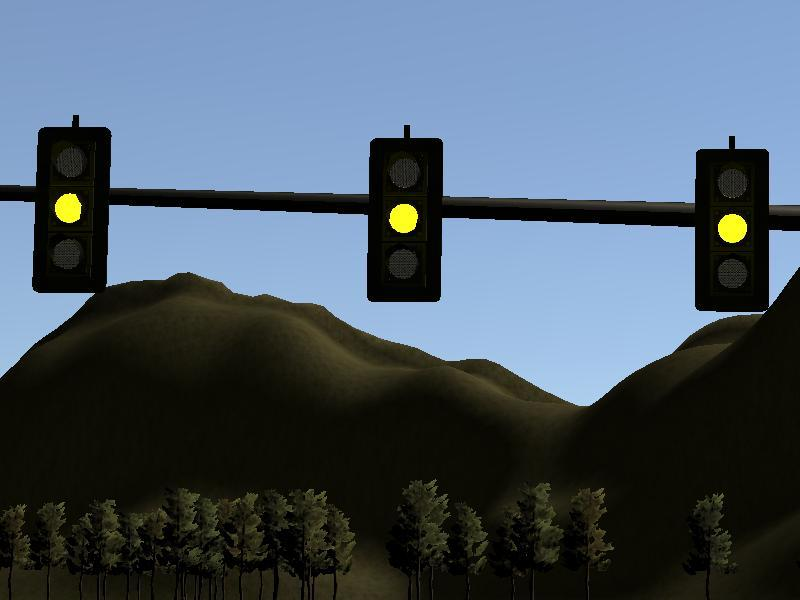Yellow: (35, 126, 109, 293), (369, 137, 442, 303), (695, 148, 769, 311)
